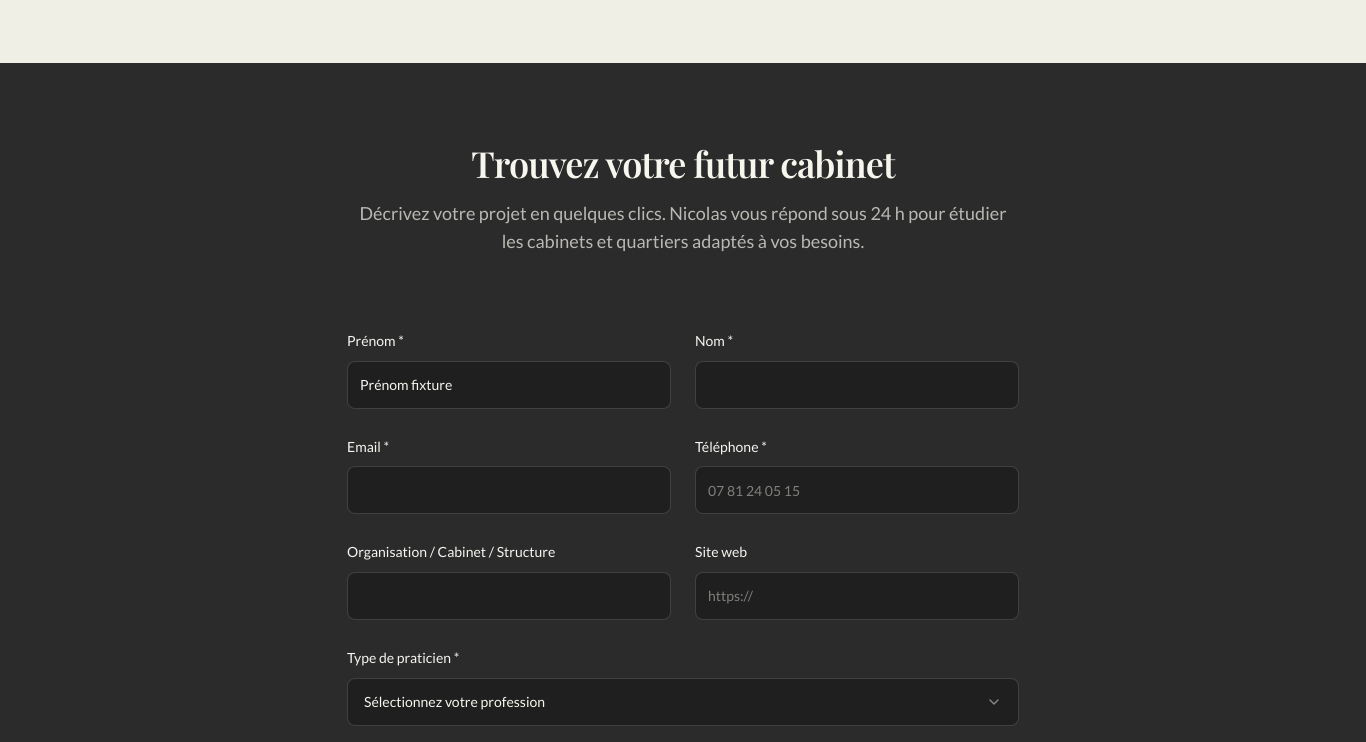
N3 champ requis blanc firstName : refus applicatif sur valeur native licite
Earlier steps of the test are not shown.
Later steps or results of the test are not shown.
(page scrolled)
Type "Nom fixture" into the field with id "lastName" at x=857, y=385, box [695, 361, 1019, 409]
Type "fixture@example.invalid" into the field with id "email" at x=509, y=490, box [347, 466, 671, 514]
Type "+33 6 00 00 00 00" into the field labelled "Téléphone *" at x=857, y=490, box [695, 466, 1019, 514]
(page scrolled)
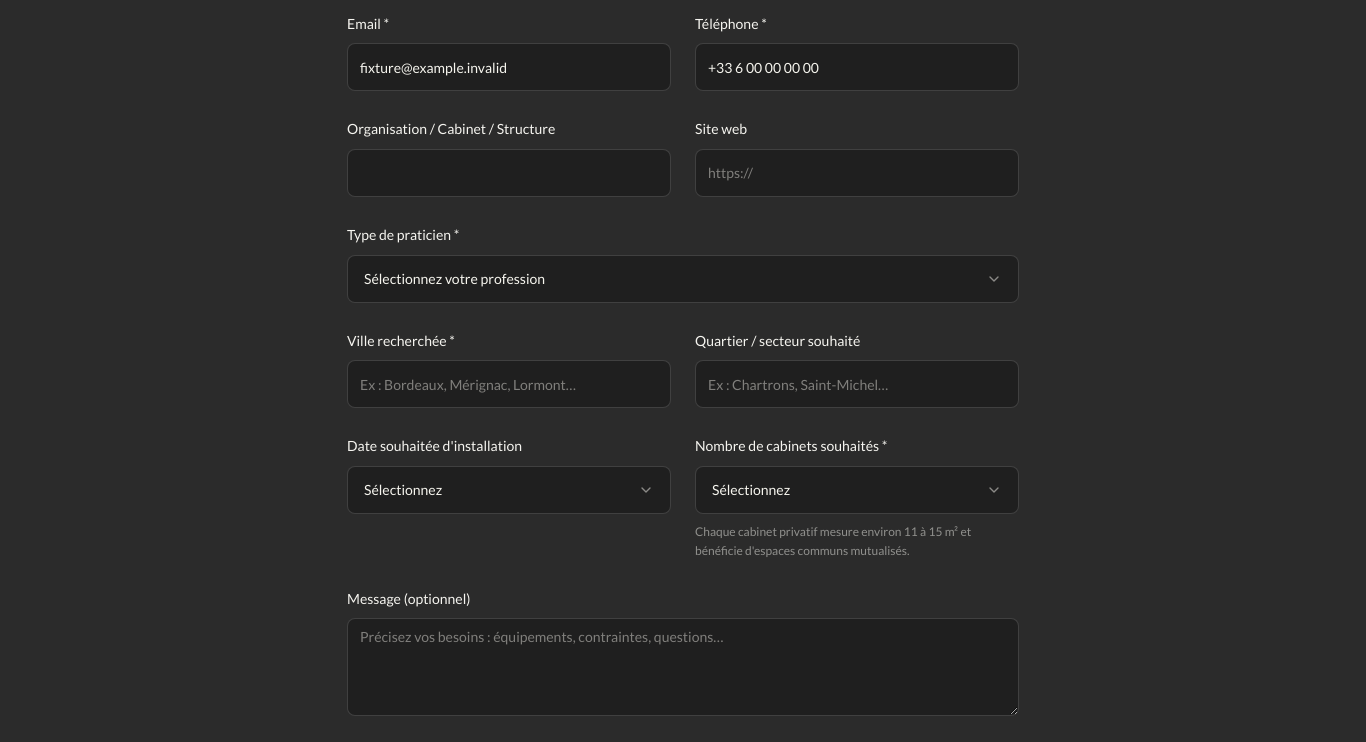
Type "Ville fixture" into the field labelled "Ville recherchée *" at x=509, y=384, box [347, 360, 671, 408]
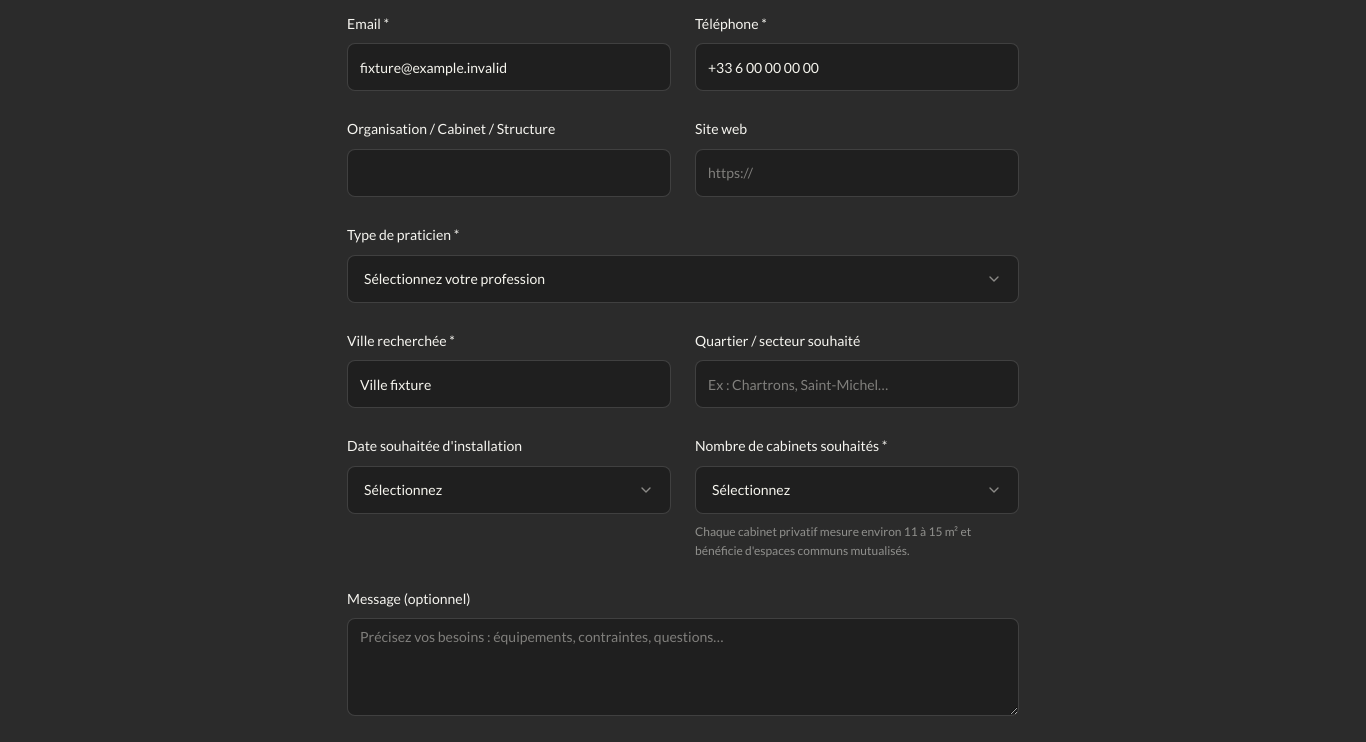
Type "Organisation conservée" into the field with id "organisation" at x=509, y=173, box [347, 149, 671, 197]
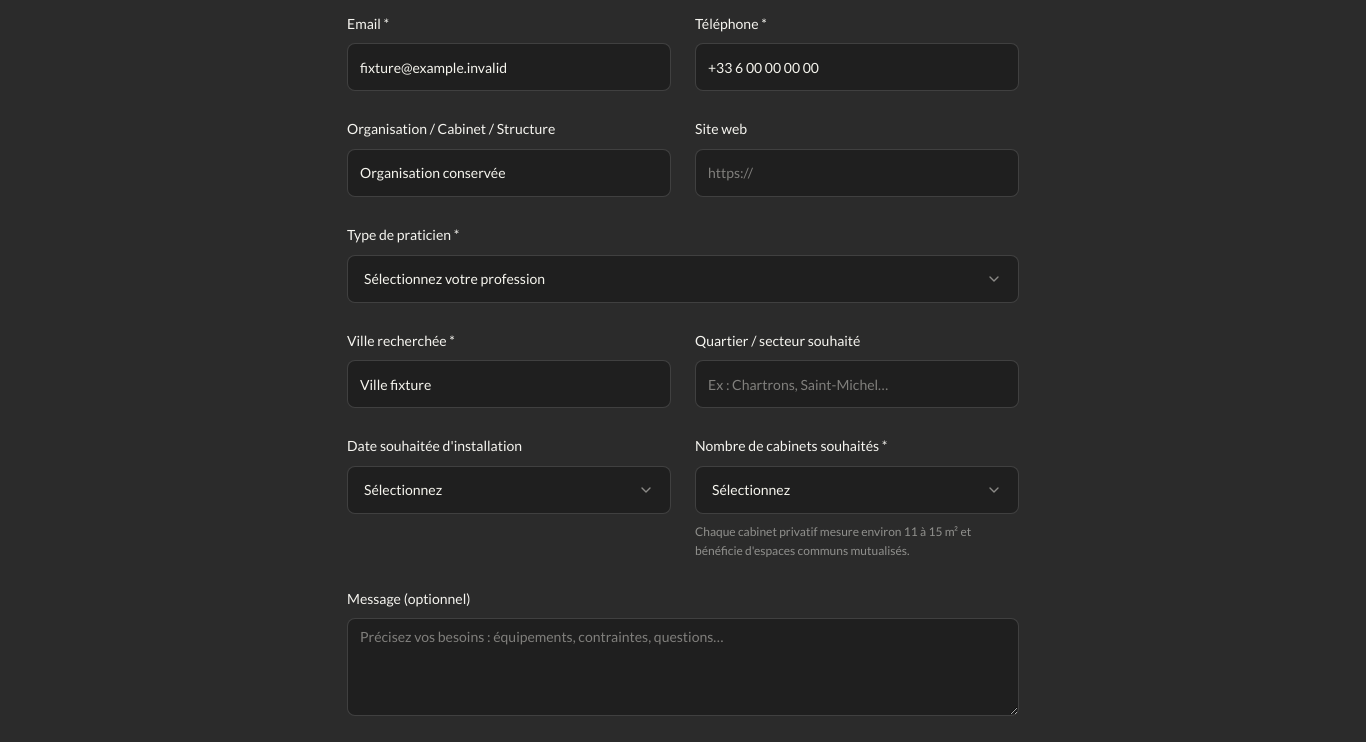
Type "Saisie conservée" into the text box with id "message" at x=683, y=667, box [347, 618, 1019, 716]
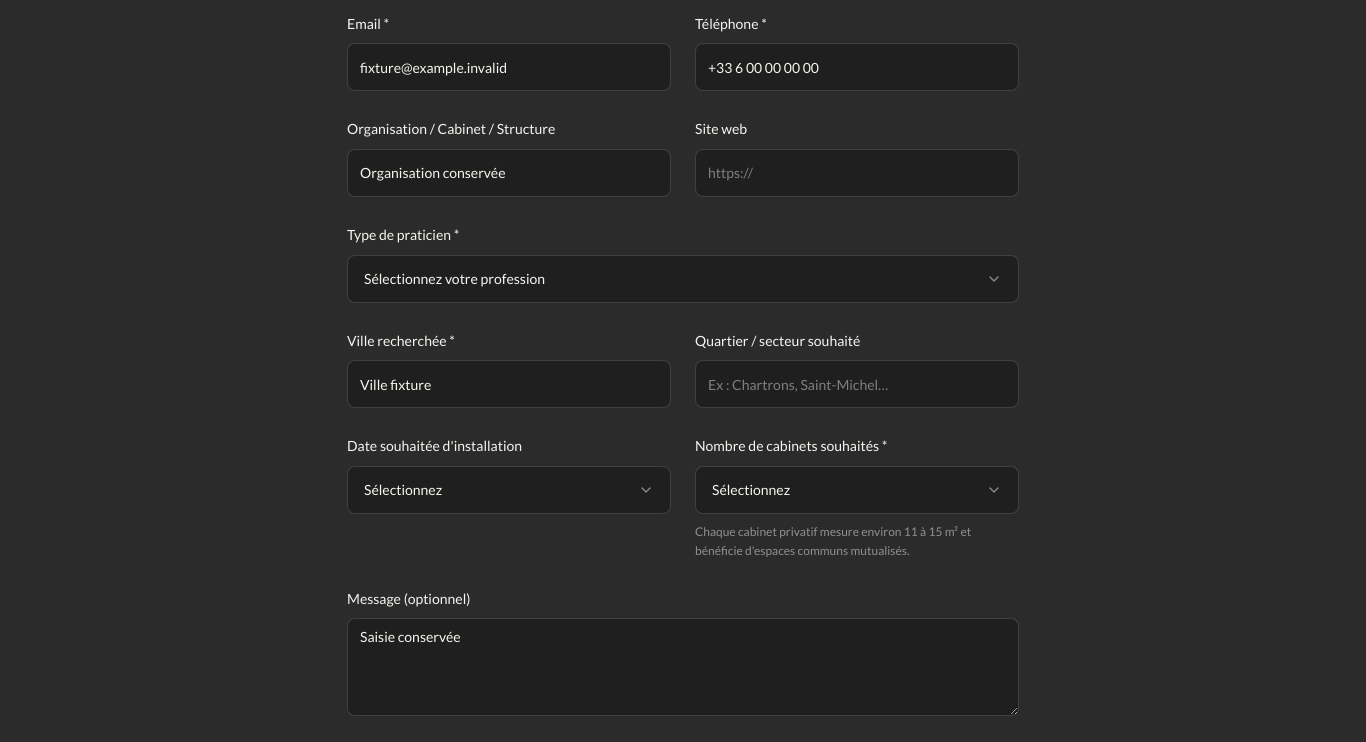
Press ArrowDown in the dropdown labelled "Sélectionnez votre profession", box [347, 254, 1019, 302]
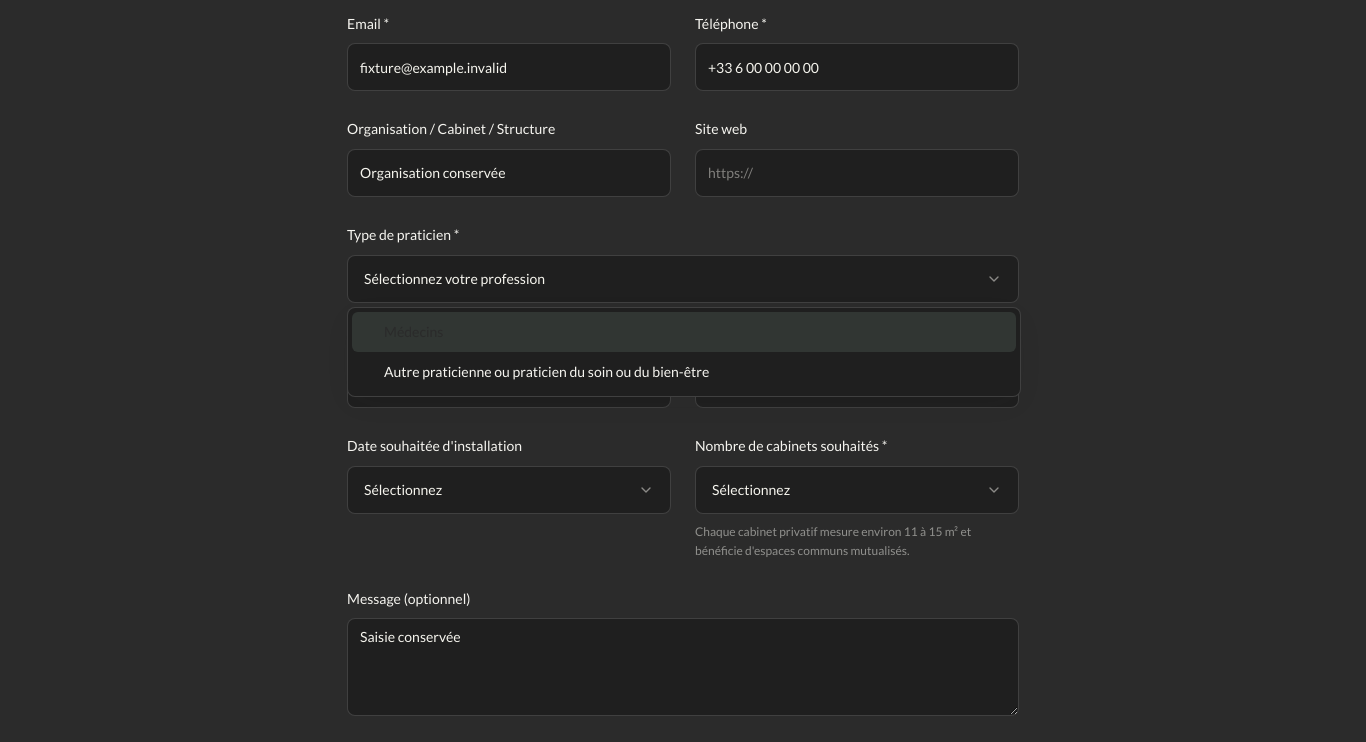
Press Enter in the option "Autre praticienne ou praticien du soin ou du bien-être", box [384, 363, 709, 380]
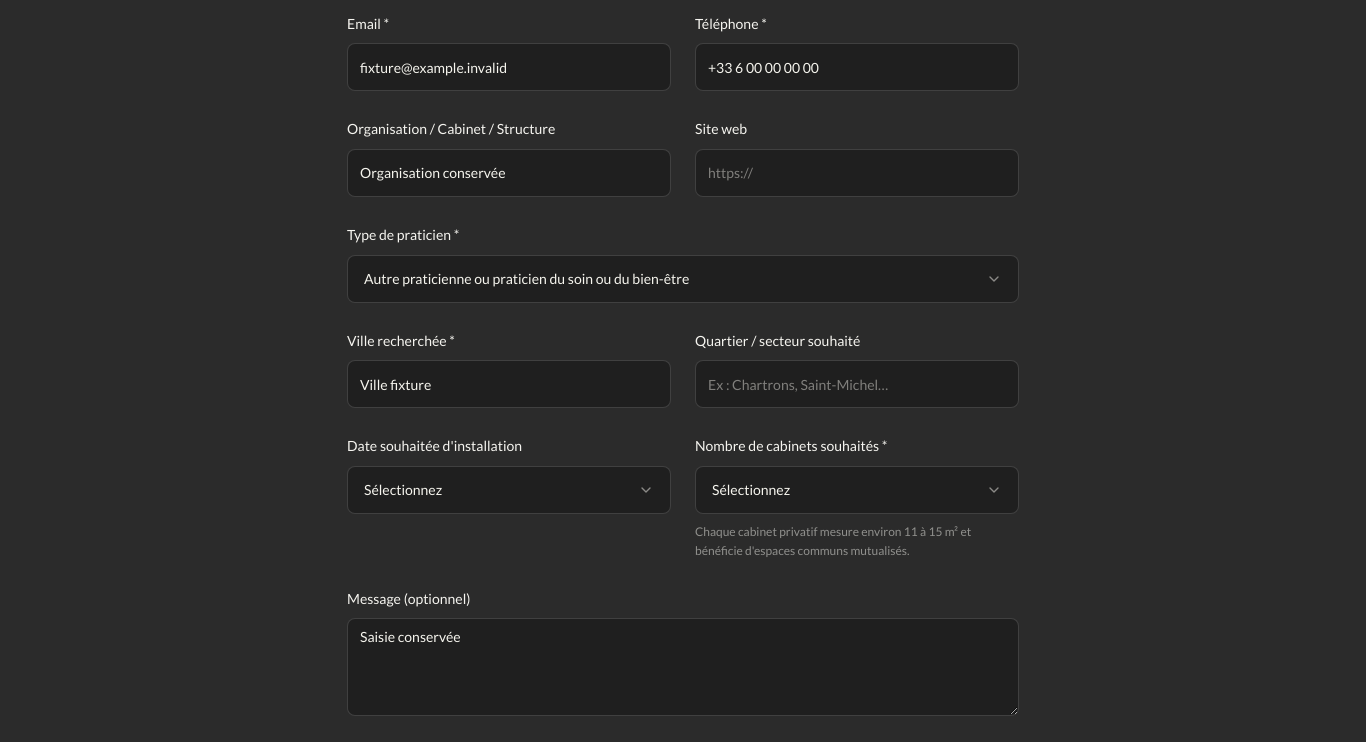
Now the dropdown labelled "Autre praticienne ou praticien du soin ou du bien-être" is shown, box [347, 254, 1019, 302]
